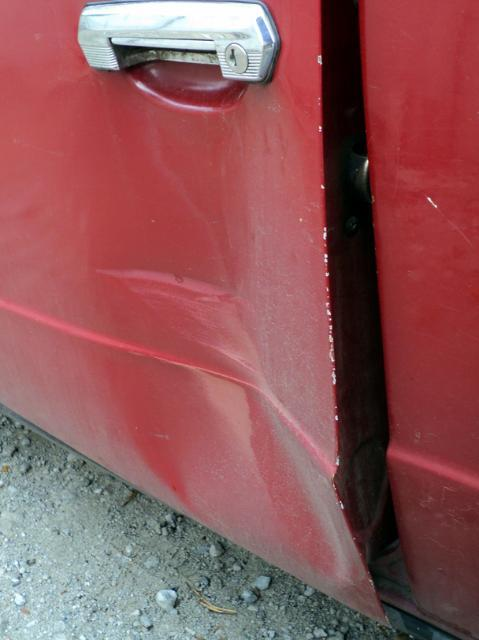Door: (0, 0, 403, 640)
